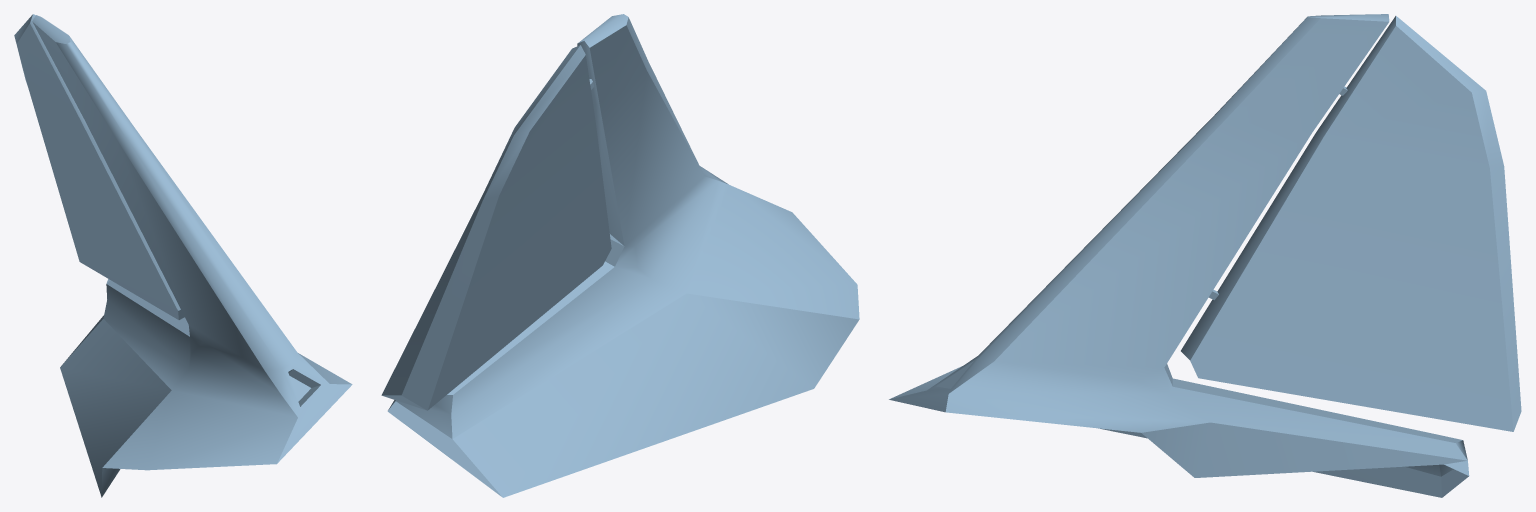
The model's file is keel up R.FBX.
3 renders of one model, left to right at view 1: azimuth 30°, elevation 25°; view 2: azimuth 150°, elevation 25°; view 3: azimuth 270°, elevation 25°, orthographic. The views are drawn at different scales.
Parts seen in each view (by area): view 1: Group29; view 2: Group29; view 3: Group29.
Part boxes in pixels (left/top/right/bottom): Group29: left=14, top=14, right=352, bottom=497; Group29: left=381, top=14, right=859, bottom=497; Group29: left=889, top=14, right=1521, bottom=497.
Bounding box in the file's own units: 0.0347 × 0.0735 × 0.0585.
